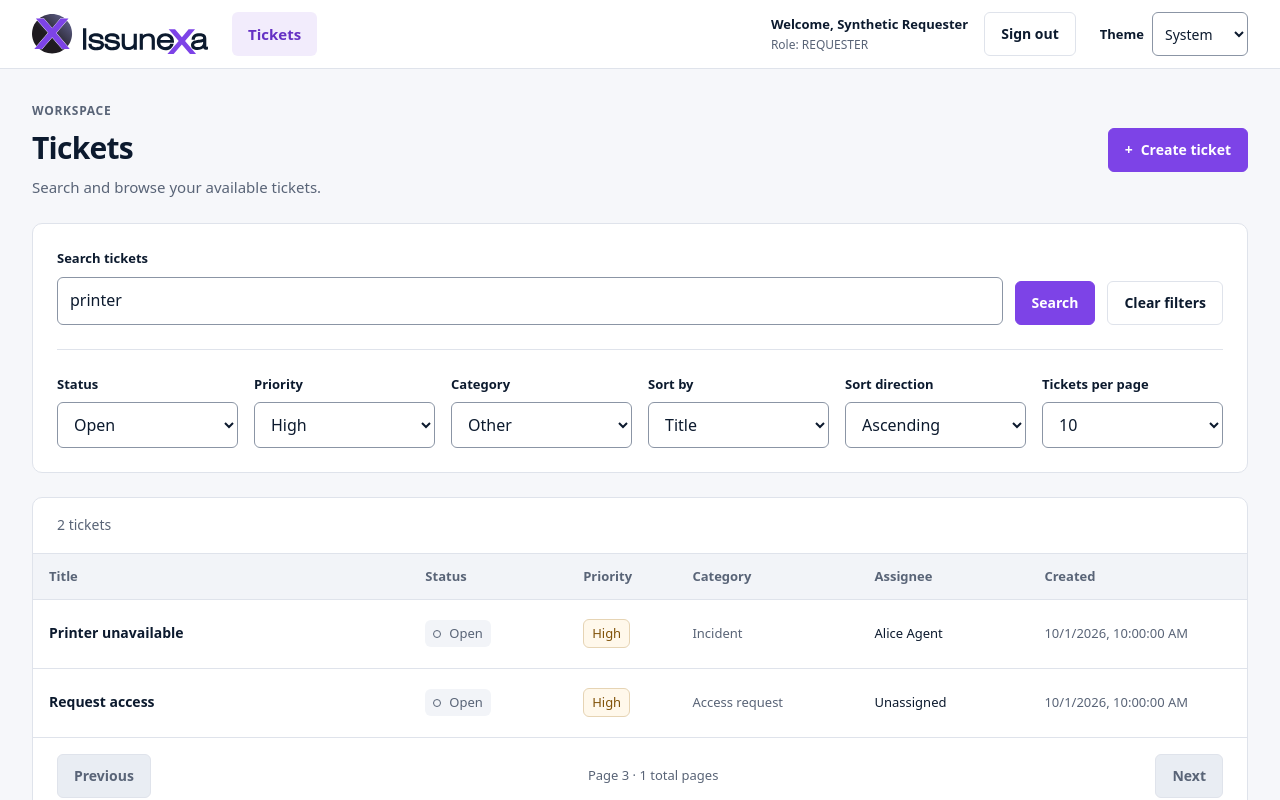
Ticket workspace › clears applied filters and draft search case 0
Expected: the table is shown, [33, 553, 1247, 737]
In the search field: (530,301) [57, 277, 1002, 325], type " unsent draft"
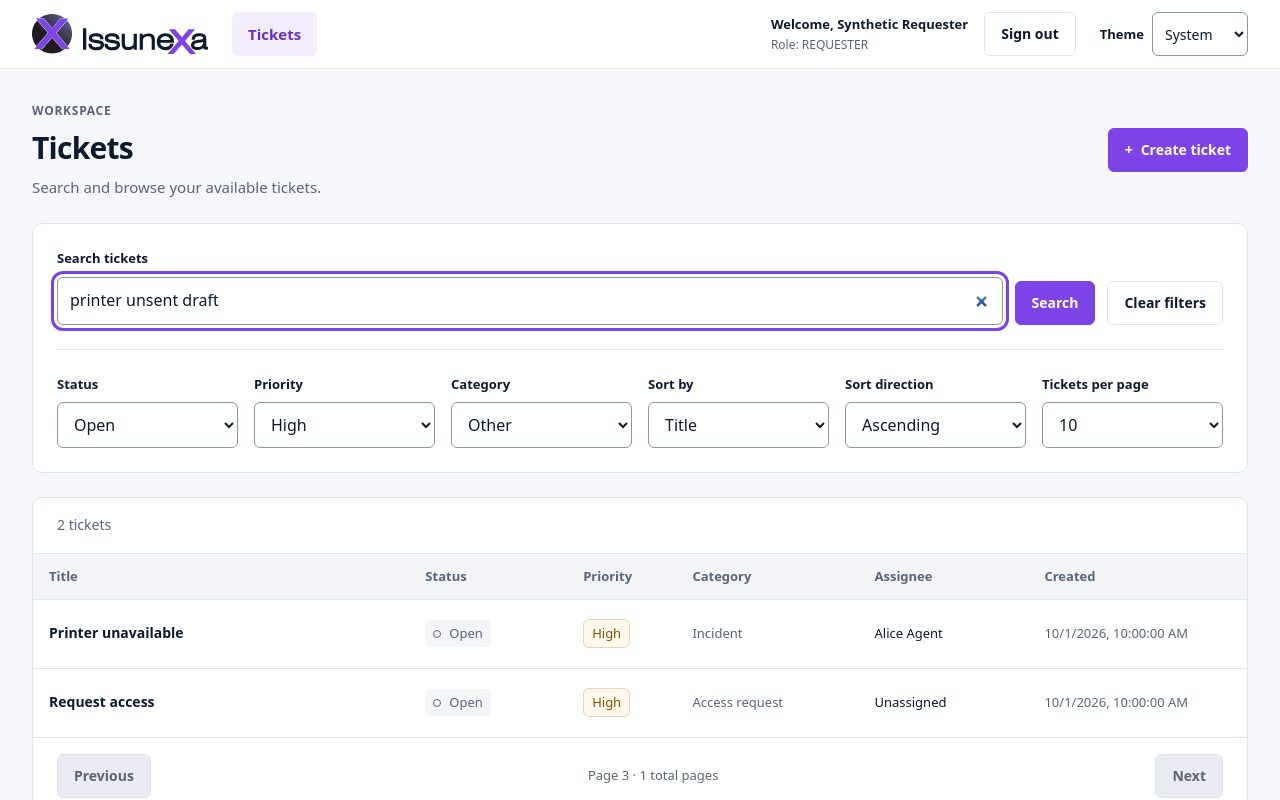
Click the button "Clear filters": (1165,303) [1108, 281, 1223, 325]
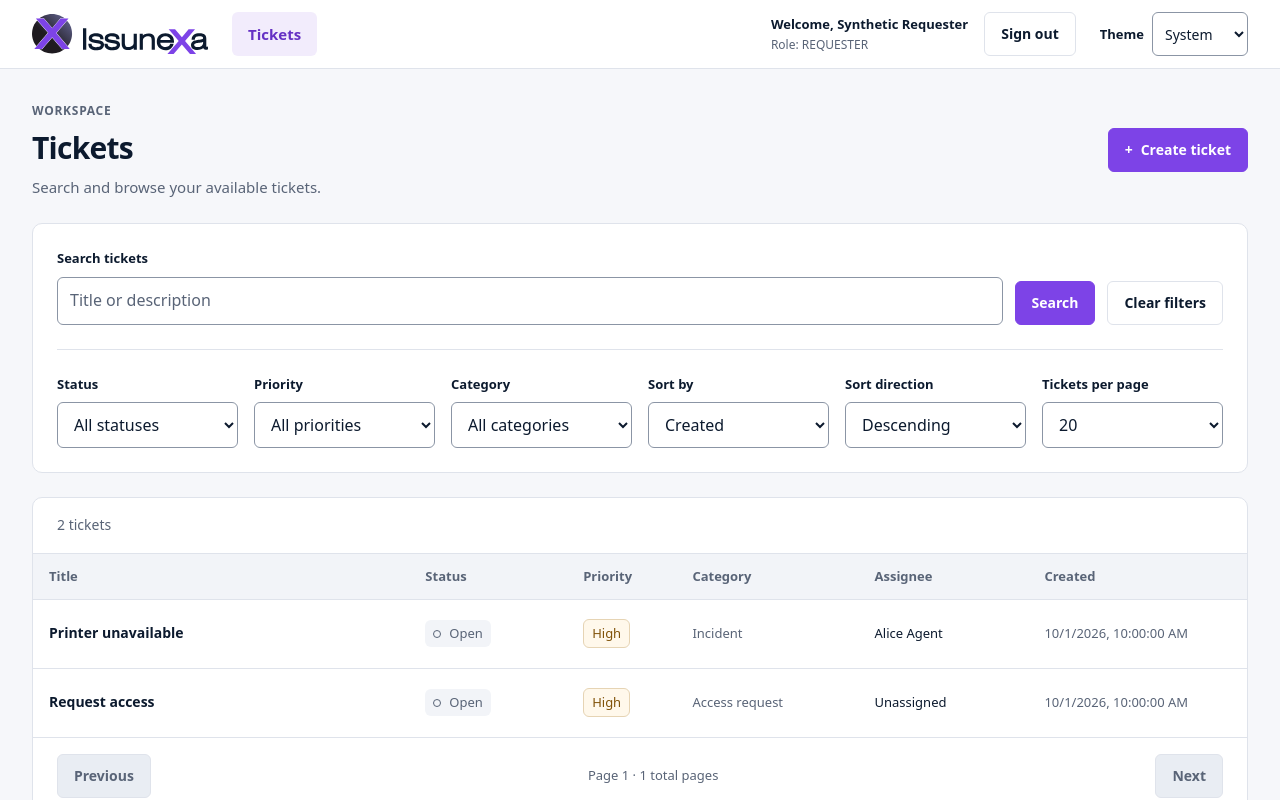
Expected: the table is shown, [33, 553, 1247, 737]
Result: the search field is empty at [57, 277, 1002, 325]
Result: the dropdown labelled "Sort by" shows "Created" at [648, 402, 829, 448]
